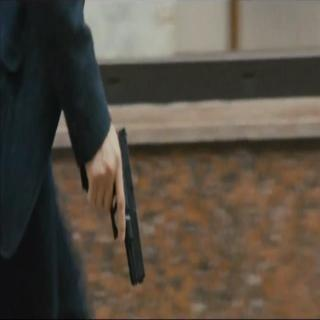gun: (63, 114, 151, 294)
